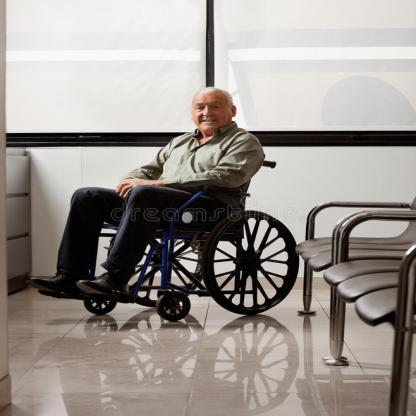wheelchair: (43, 84, 300, 326)
